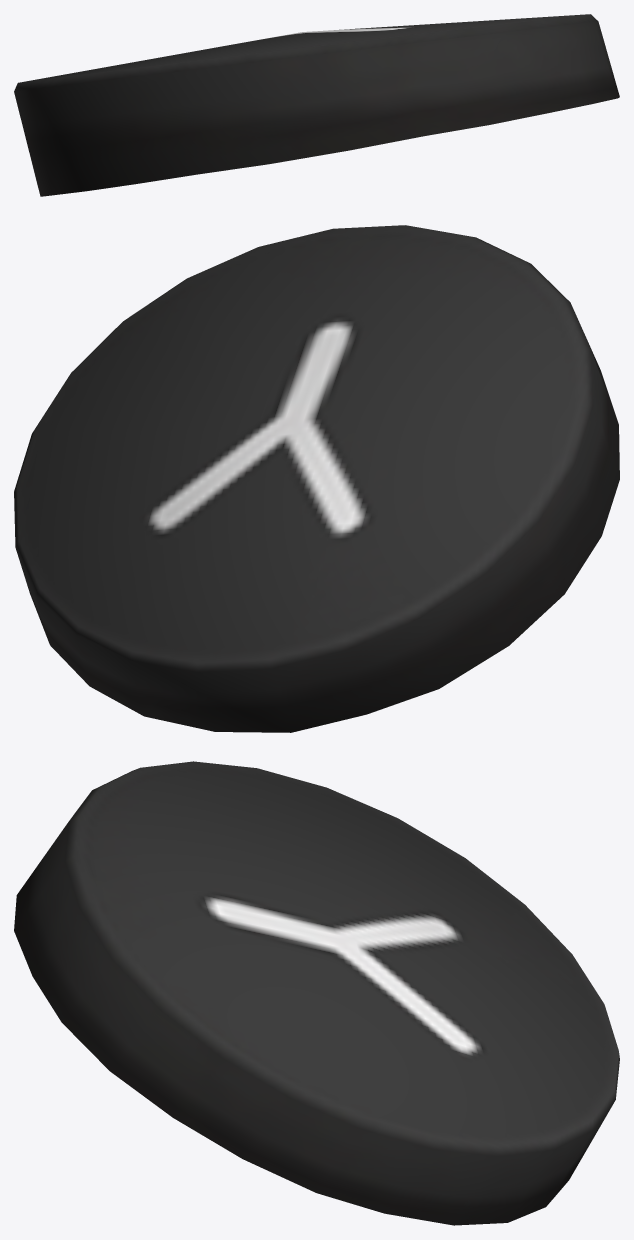
The model's file is left_y_button.obj.
3 renders of one model, top to bottom at view 1: azimuth 30°, elevation 25°; view 2: azimuth 150°, elevation 25°; view 3: azimuth 270°, elevation 25°, orthographic. The views are drawn at different scales.
Visible parts, largest first — view 1: left_y_button; view 2: left_y_button; view 3: left_y_button.
Part boxes in pixels (<box>): left_y_button: <box>14,14,619,196</box>; left_y_button: <box>14,225,619,732</box>; left_y_button: <box>14,761,619,1225</box>.
Size of the model in its own units: 0.0108 by 0.00625 by 0.0106.
1 material, 1 textured.
